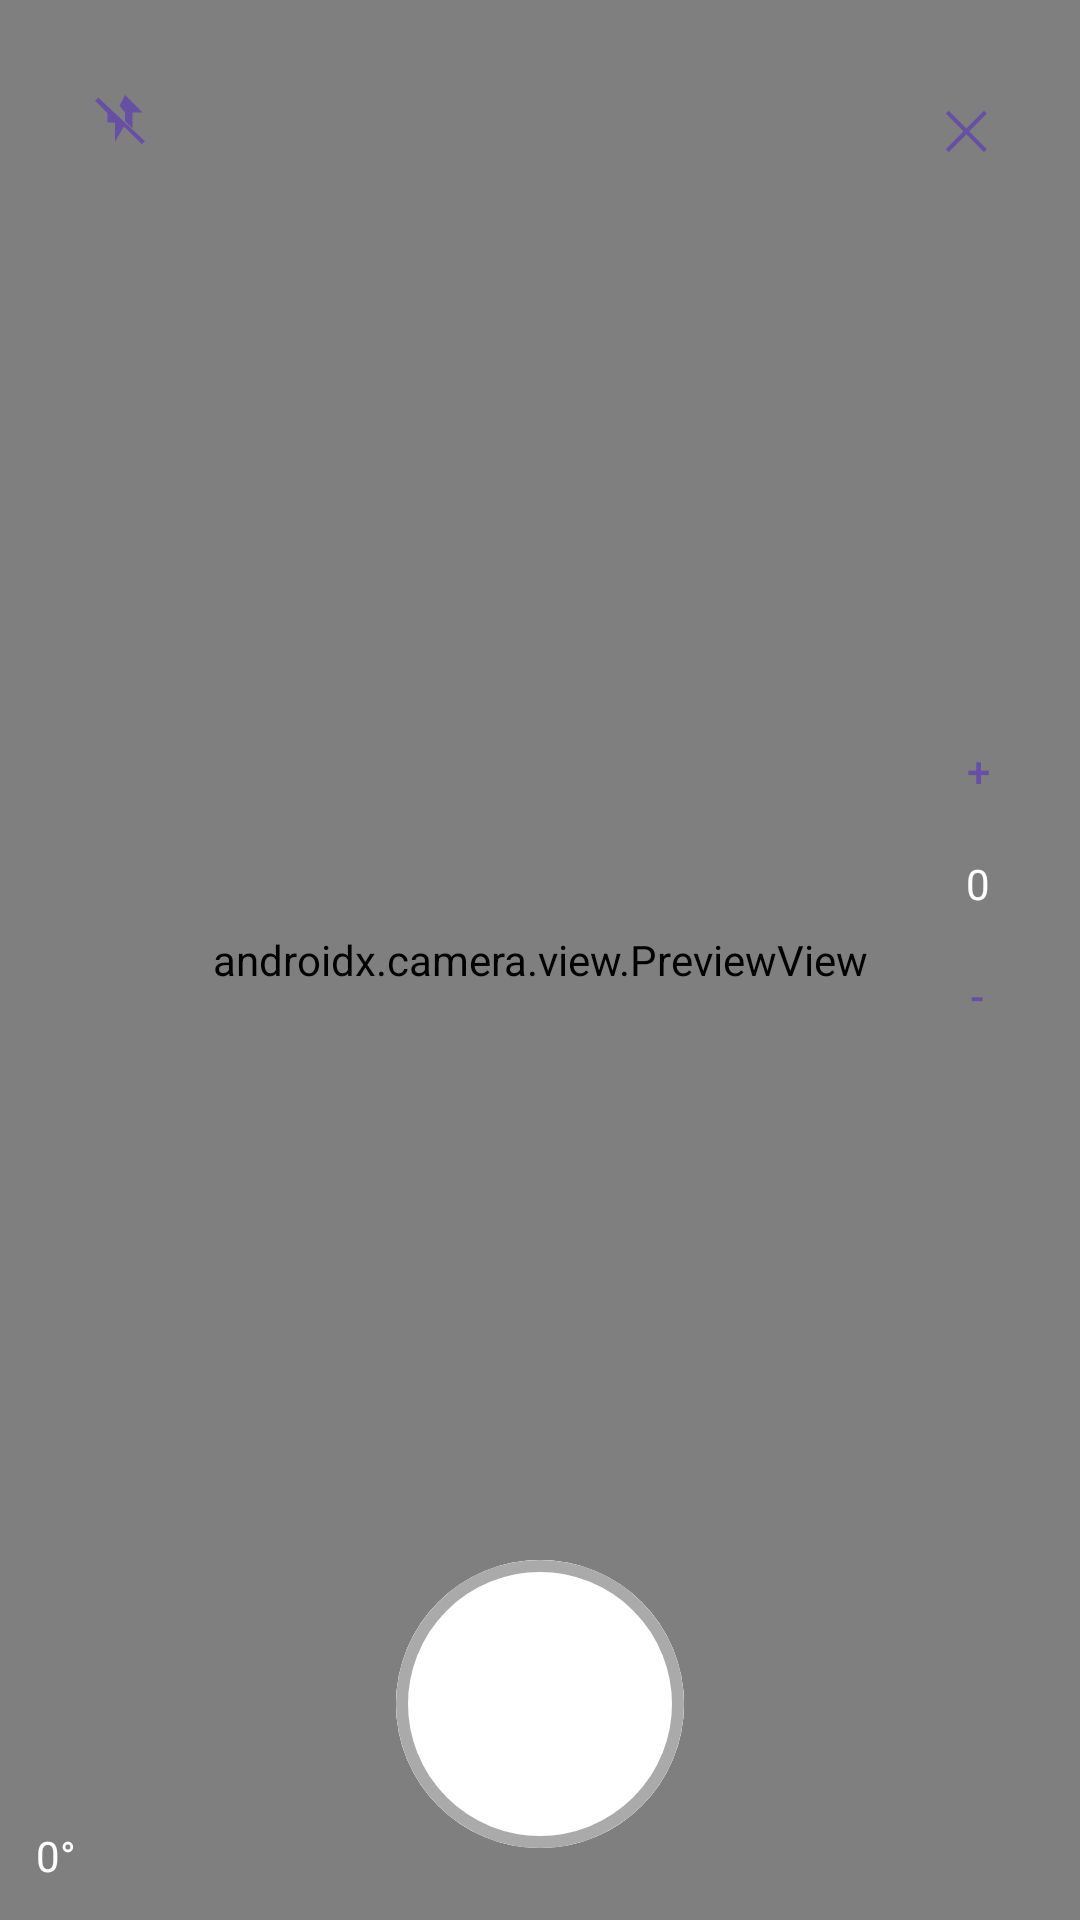

Icon click points for this 1080px x 1920px phone screenshot, format (x=x, y=y):
플래시 모드 전환: (x=120, y=119)
